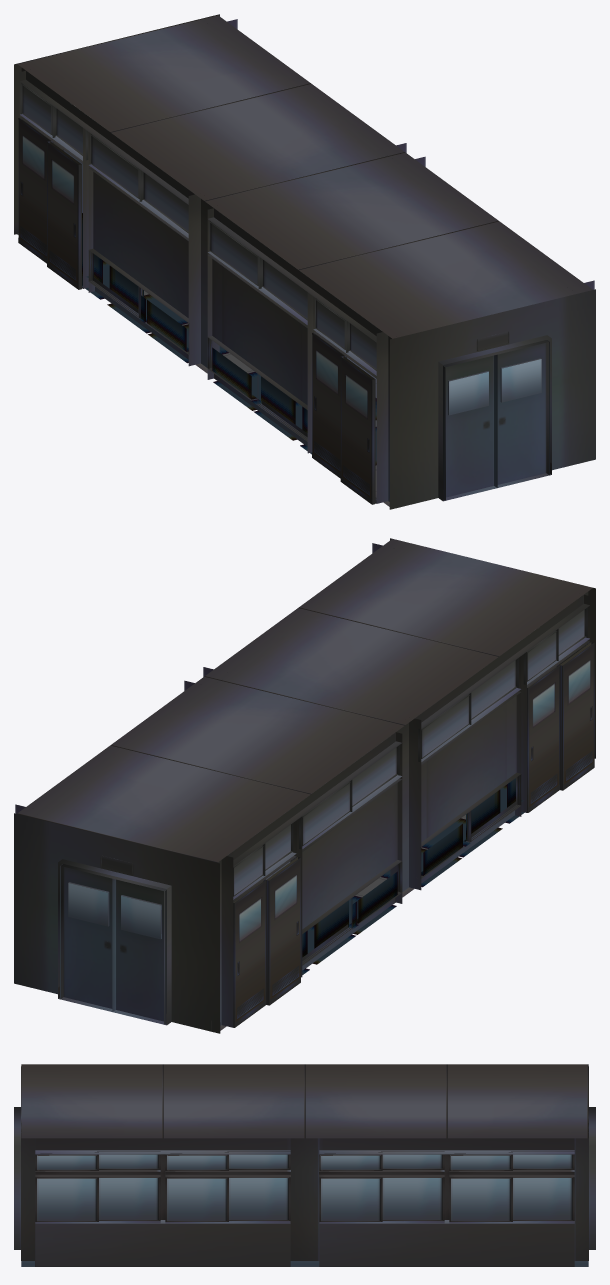
The model's file is JpsHallWayNigModel.FBX.
3 renders of one model, top to bottom at view 1: azimuth 30°, elevation 25°; view 2: azimuth 150°, elevation 25°; view 3: azimuth 270°, elevation 25°, orthographic. The views are drawn at different scales.
Parts seen in each view (by area): view 1: HW_ceiling board_nig00, HW_wallL_nig00, HW_wall_exitB_nig00, HW_doorL_exitB_nig00, HW_doorR_exitB_nig00, HW_floor_spot_add_nig00, HW_doorR_b_nig, HW_doorR_f_nig, HW_doorL_f_nig, HW_doorL_b_nig, HW_wall_exitA_nig00; view 2: HW_ceiling board_nig00, HW_wallL_nig00, HW_wall_exitA_nig00, HW_doorL_exitA_nig00, HW_doorR_exitA_nig00, HW_floor_spot_add_nig00, HW_doorR_b_nig, HW_doorR_f_nig, HW_doorL_f_nig, HW_doorL_b_nig; view 3: HW_wallR__nig00, HW_ceiling board_nig00, HW_wall_exitA_nig00, HW_wall_exitB_nig00, HW_baseboardsR_nig00, HW_floor_nig00.
Part boxes in pixels (box(x1,y1,x2,y2)): HW_ceiling board_nig00: box(17, 15, 592, 338); HW_wallL_nig00: box(19, 68, 391, 503); HW_wall_exitB_nig00: box(389, 289, 595, 509); HW_doorL_exitB_nig00: box(443, 354, 497, 500); HW_doorR_exitB_nig00: box(497, 340, 549, 484); HW_floor_spot_add_nig00: box(82, 213, 376, 465); HW_doorR_b_nig: box(340, 356, 375, 504); HW_doorR_f_nig: box(47, 141, 81, 289); HW_doorL_f_nig: box(18, 117, 53, 263); HW_doorL_b_nig: box(312, 332, 346, 478); HW_wall_exitA_nig00: box(14, 14, 219, 234); HW_ceiling board_nig00: box(17, 539, 592, 862); HW_wallL_nig00: box(218, 592, 590, 1027); HW_wall_exitA_nig00: box(14, 813, 220, 1033); HW_doorL_exitA_nig00: box(112, 878, 166, 1024); HW_doorR_exitA_nig00: box(60, 864, 112, 1008); HW_floor_spot_add_nig00: box(302, 778, 524, 974); HW_doorR_b_nig: box(559, 642, 594, 790); HW_doorR_f_nig: box(266, 857, 300, 1005); HW_doorL_f_nig: box(233, 879, 266, 1027); HW_doorL_b_nig: box(527, 665, 559, 812); HW_wallR__nig00: box(21, 1132, 588, 1266); HW_ceiling board_nig00: box(21, 1064, 588, 1138); HW_wall_exitA_nig00: box(588, 1107, 595, 1249); HW_wall_exitB_nig00: box(14, 1107, 21, 1249); HW_baseboardsR_nig00: box(35, 1258, 574, 1266); HW_floor_nig00: box(21, 1261, 588, 1266).
Size of the model in its own units: 410 by 300 by 1230.
